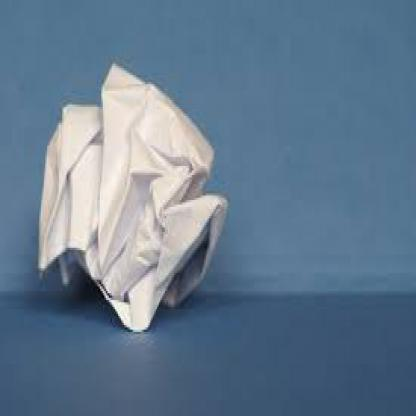paper: (34, 59, 228, 334)
